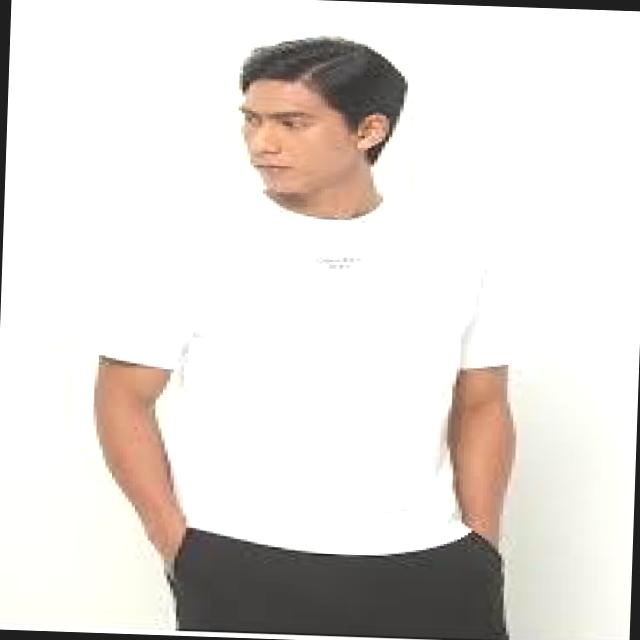Tshirt: (78, 183, 565, 564)
